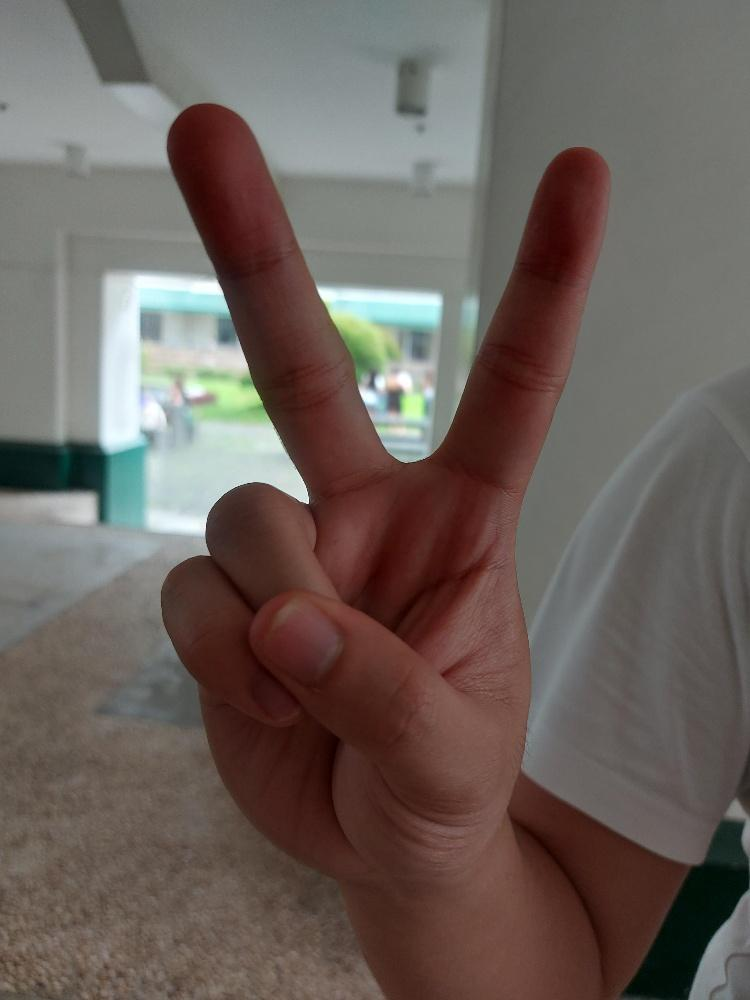v: (154, 96, 613, 877)
